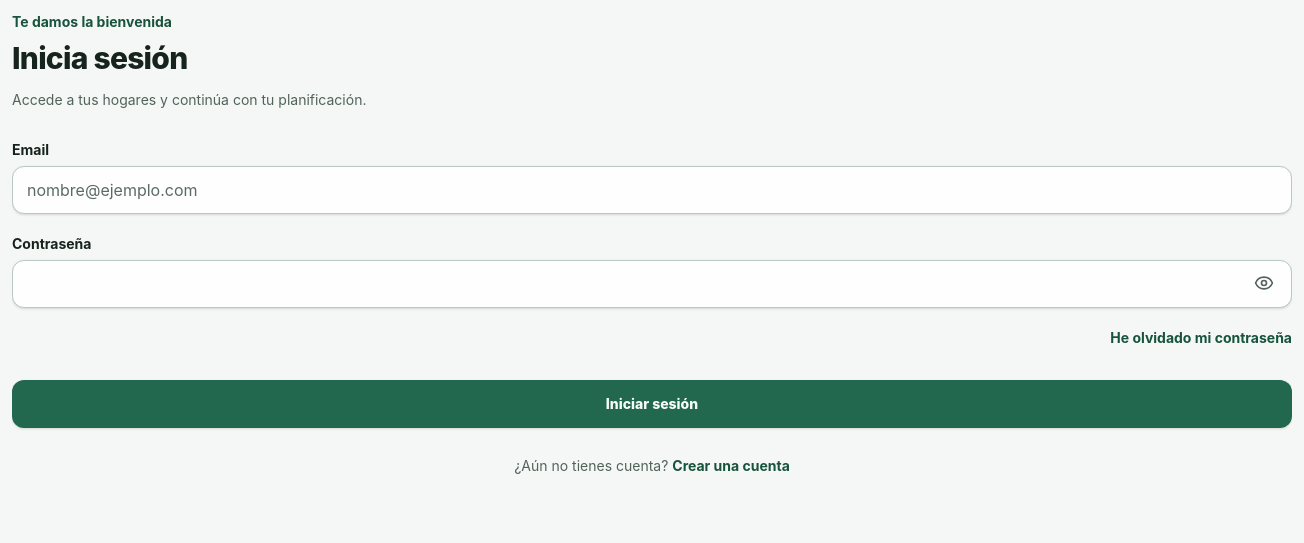
LoginPage › muestra errores accionables sin enviar datos incompletos
This screenshot has width=1304, height=543.
Click the button "Iniciar sesión".
click(652, 404)  # box left=12, top=380, right=1292, bottom=428
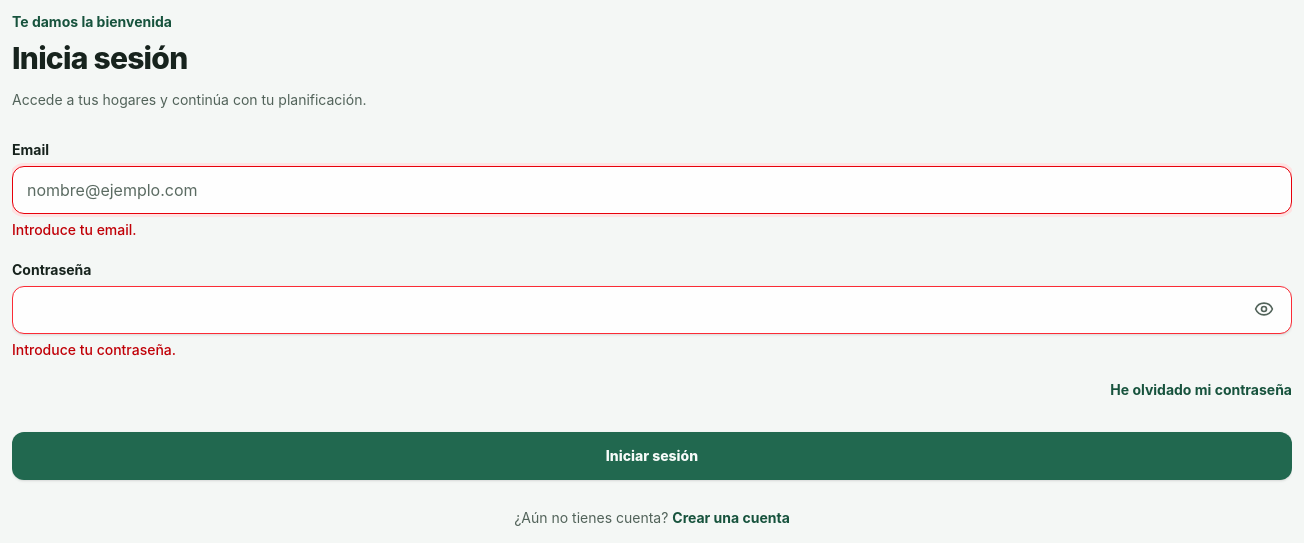
Now the text "Introduce tu email." is shown, box left=12, top=221, right=136, bottom=238
Now the text "Introduce tu contraseña." is shown, box left=12, top=341, right=176, bottom=358
